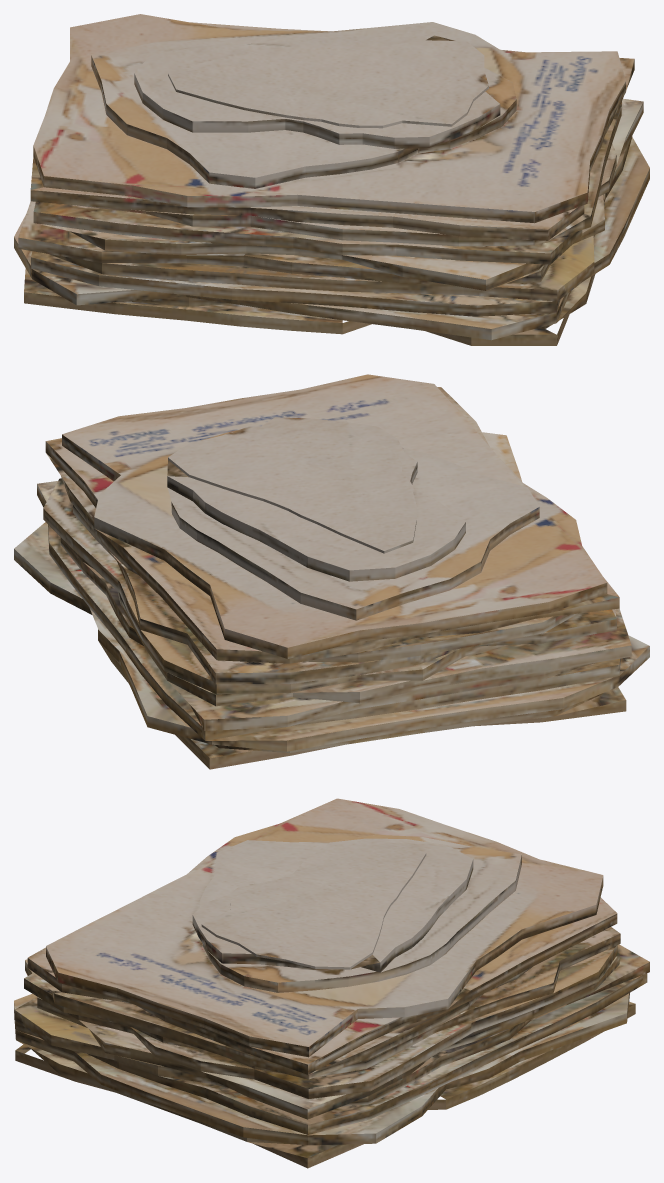
File: LetterBundle.fbx
3 views of the same model, one above another, from view 1: azimuth 30°, elevation 25°; view 2: azimuth 150°, elevation 25°; view 3: azimuth 270°, elevation 25° (orthographic). The views are drawn at different scales.
Parts seen in each view (by area): view 1: LetterBundle_Low; view 2: LetterBundle_Low; view 3: LetterBundle_Low.
Part boxes in pixels (bbox=[...]): LetterBundle_Low: bbox=[14, 14, 649, 345]; LetterBundle_Low: bbox=[14, 374, 649, 769]; LetterBundle_Low: bbox=[14, 798, 649, 1168].
Size of the model in its own units: 0.8459 by 0.1963 by 0.8385.
